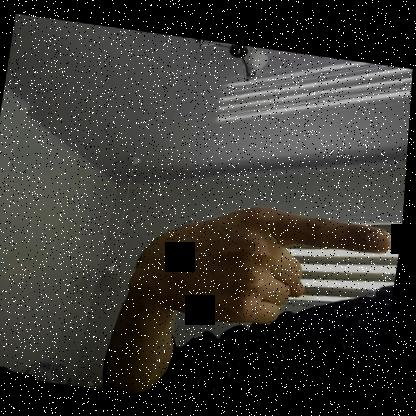G: (125, 188, 400, 340)
